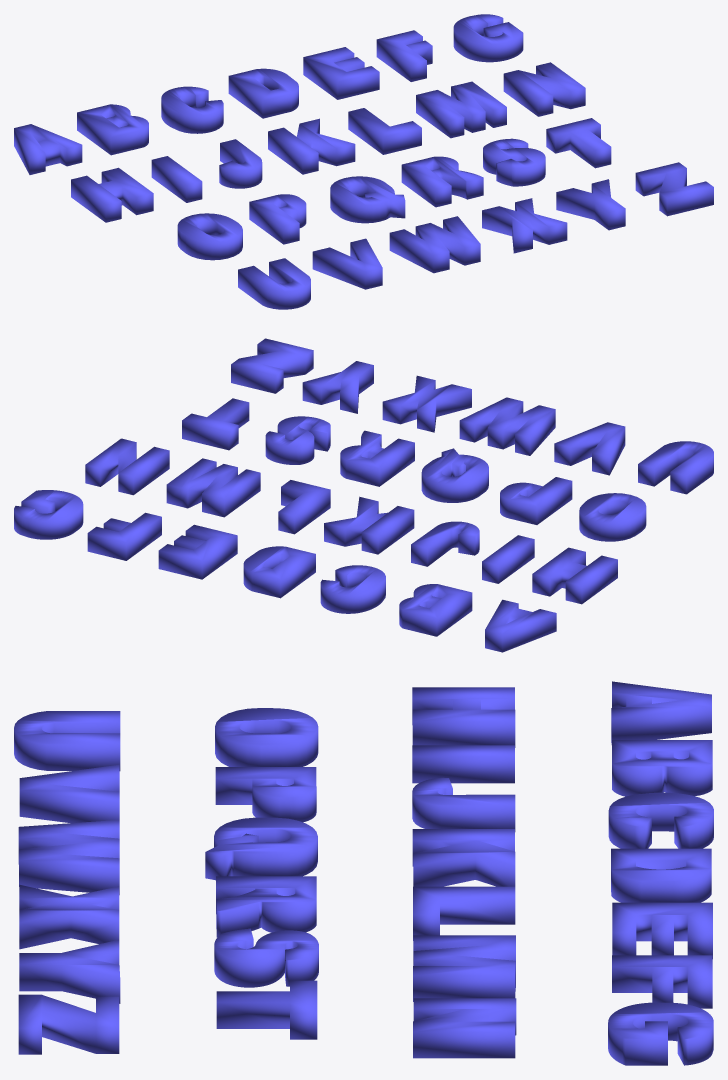
The picture shows the model from 3 angles, top to bottom: view 1: azimuth 30°, elevation 25°; view 2: azimuth 150°, elevation 25°; view 3: azimuth 270°, elevation 25°; orthographic projection. The views are drawn at different scales.
Visible parts, largest first — view 1: M, W, N, H, K, R, G, E, U, Q, X, Z (+14 smaller); view 2: W, M, H, K, N, Z, E, U, G, X, B, R (+14 smaller); view 3: W, M, N, H, U, G, K, O (×2), Q, R, X, S (+14 smaller).
Boxes of the visible parts, x1,y1,x2,y2 form: M: [416, 81, 506, 138]; W: [389, 216, 480, 273]; N: [503, 62, 585, 116]; H: [71, 167, 153, 222]; K: [268, 118, 355, 174]; R: [401, 156, 483, 207]; G: [453, 14, 523, 62]; E: [303, 47, 379, 99]; U: [238, 258, 310, 309]; Q: [330, 176, 405, 223]; X: [482, 198, 567, 253]; Z: [635, 162, 713, 216]; W: [459, 397, 555, 455]; M: [166, 458, 260, 517]; H: [532, 547, 617, 604]; K: [324, 496, 414, 554]; N: [85, 438, 169, 495]; Z: [231, 338, 313, 393]; E: [158, 524, 237, 579]; U: [638, 441, 713, 494]; G: [14, 490, 83, 539]; X: [382, 375, 471, 432]; B: [399, 584, 472, 636]; R: [340, 430, 414, 486]; W: [18, 820, 119, 894]; M: [413, 935, 515, 1001]; N: [413, 998, 516, 1058]; H: [412, 687, 515, 747]; U: [14, 711, 120, 770]; G: [608, 1002, 713, 1065]; K: [412, 829, 515, 886]; O (×2): [215, 708, 318, 766]; Q: [205, 817, 317, 880]; R: [216, 876, 316, 937]; X: [19, 884, 119, 949]; S: [214, 928, 318, 987].
Bounding box in the file's own units: 172 × 142 × 5.91.
